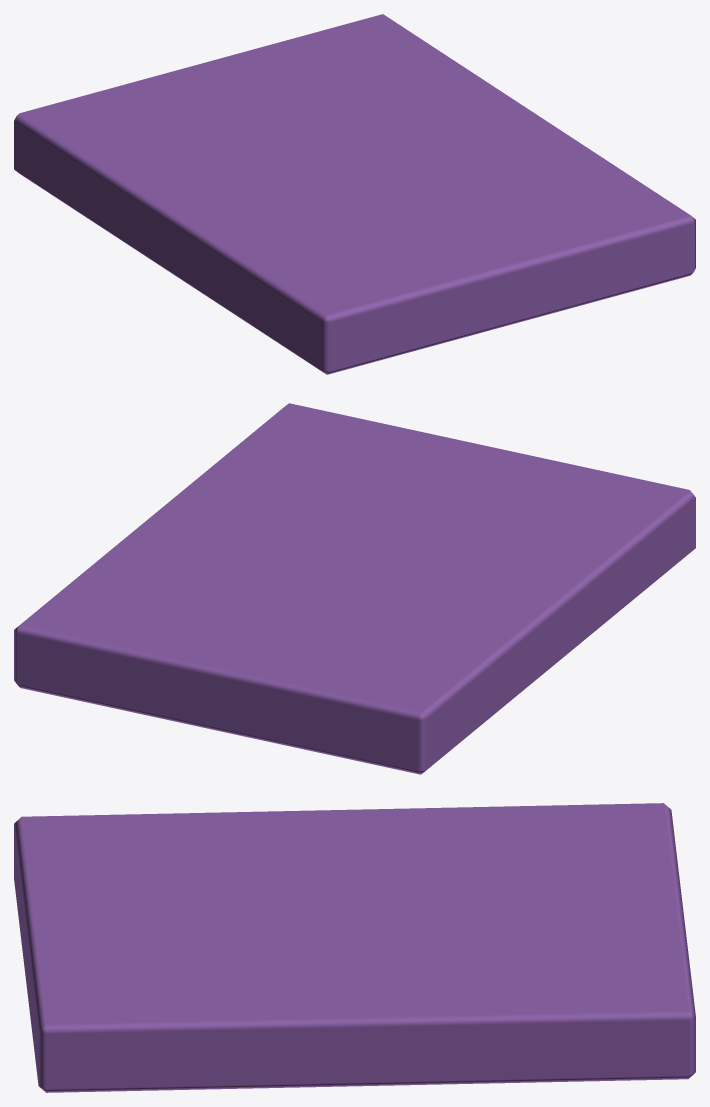
File: book_nightstand_1.fbx
3 renders of one model, top to bottom at view 1: azimuth 30°, elevation 25°; view 2: azimuth 150°, elevation 25°; view 3: azimuth 270°, elevation 25°, orthographic. The views are drawn at different scales.
Parts seen in each view (by area): view 1: book_nightstand_1; view 2: book_nightstand_1; view 3: book_nightstand_1.
Boxes of the visible parts, left/top/right/bottom form: book_nightstand_1: left=14, top=14, right=695, bottom=374; book_nightstand_1: left=14, top=403, right=695, bottom=774; book_nightstand_1: left=14, top=803, right=695, bottom=1092.
Size of the model in its own units: 0.2124 by 0.03 by 0.2694.
